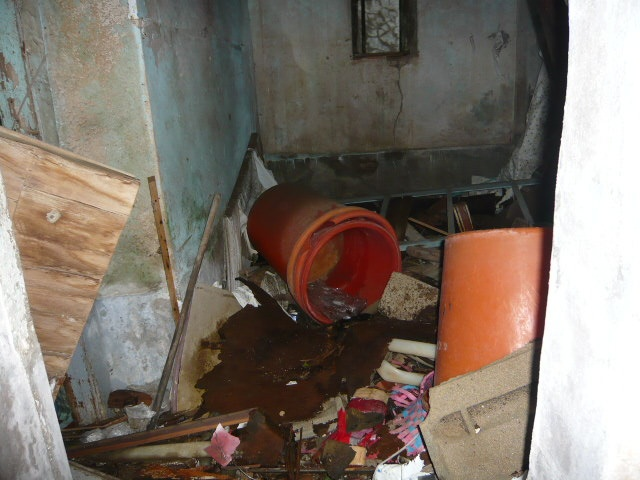bucket: (244, 181, 403, 325)
